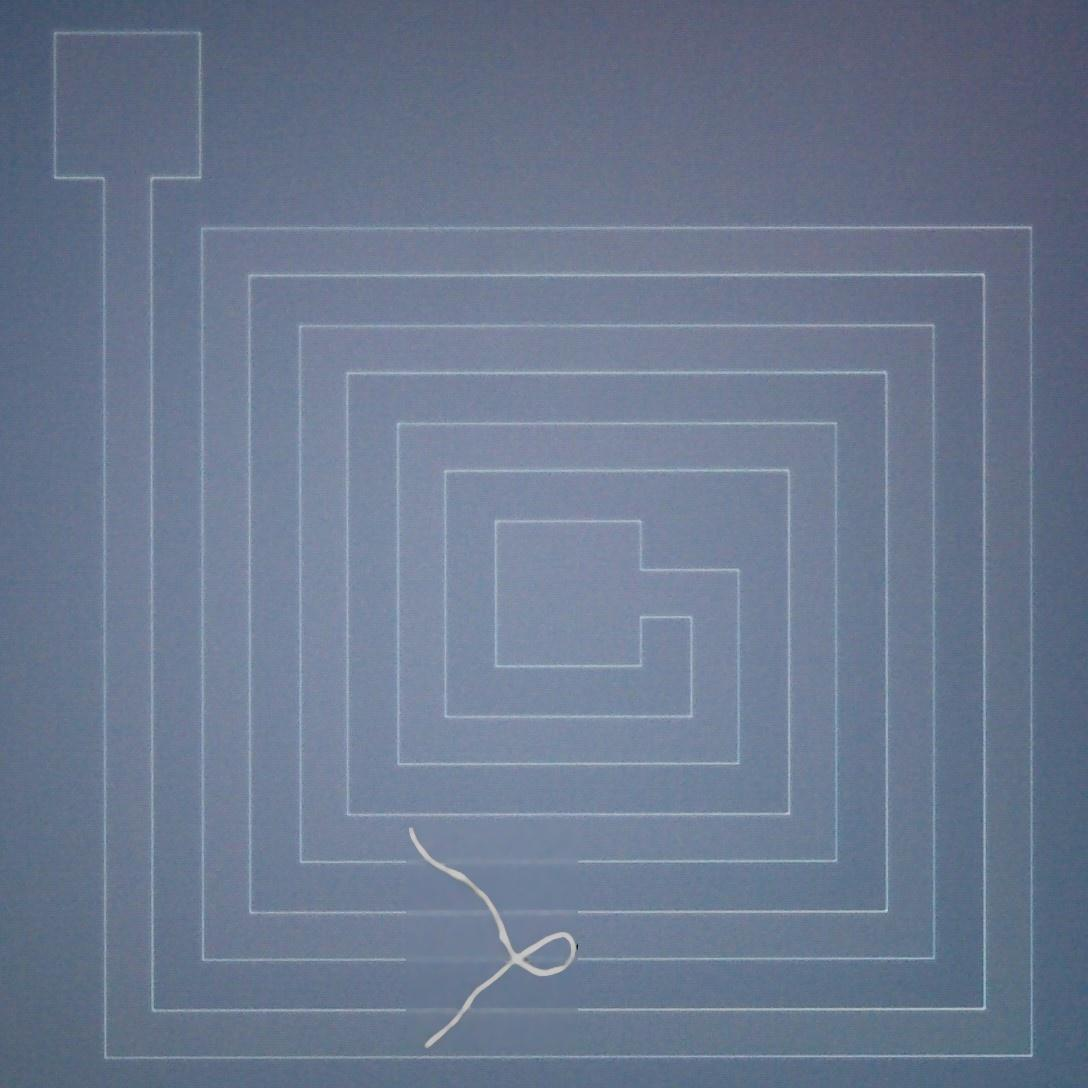foreign: (409, 821, 579, 1054)
